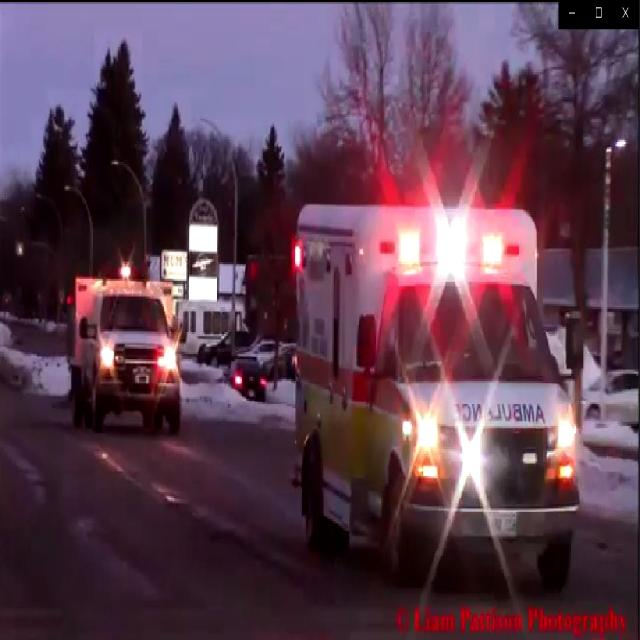emergency: (289, 193, 592, 605), (64, 250, 190, 446)
